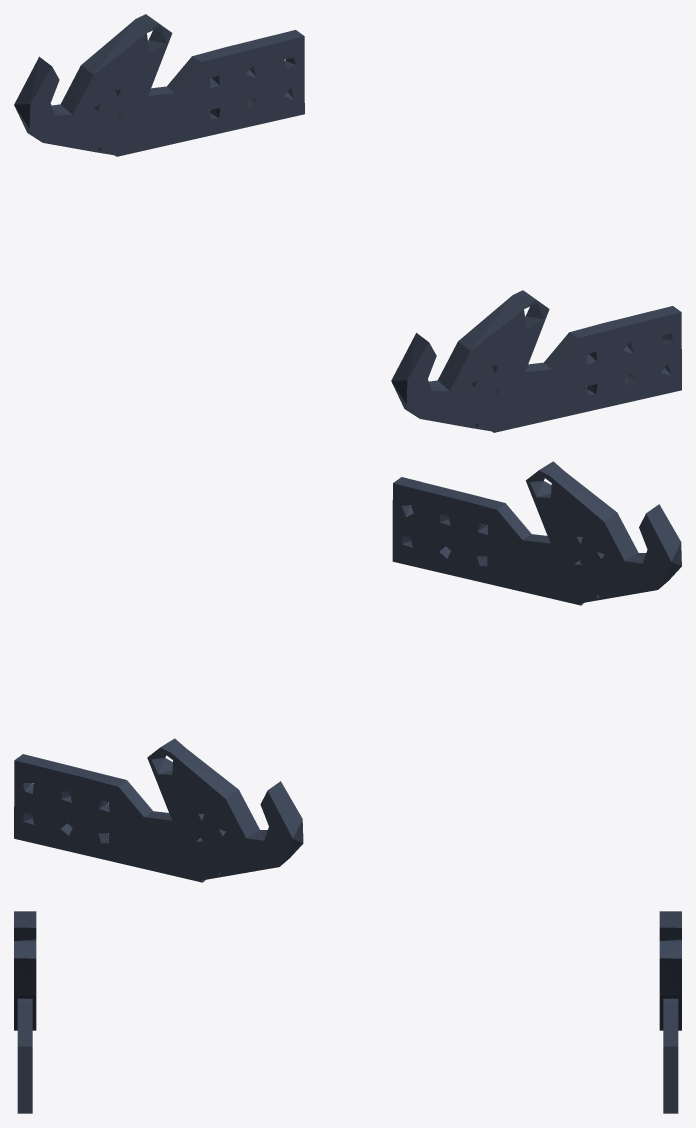
Rendered from implement_mount.dae.
3 views of the same model, one above another, from view 1: azimuth 30°, elevation 25°; view 2: azimuth 150°, elevation 25°; view 3: azimuth 270°, elevation 25° (orthographic). The views are drawn at different scales.
Parts seen in each view (by area): view 1: implement_mount_link; view 2: implement_mount_link; view 3: implement_mount_link.
Part boxes in pixels (x1,y1,x2,y2): implement_mount_link: (14,14,681,432); implement_mount_link: (14,461,681,882); implement_mount_link: (14,911,681,1113).
Size of the model in its own units: 0.3731 by 0.9 by 0.1636.
